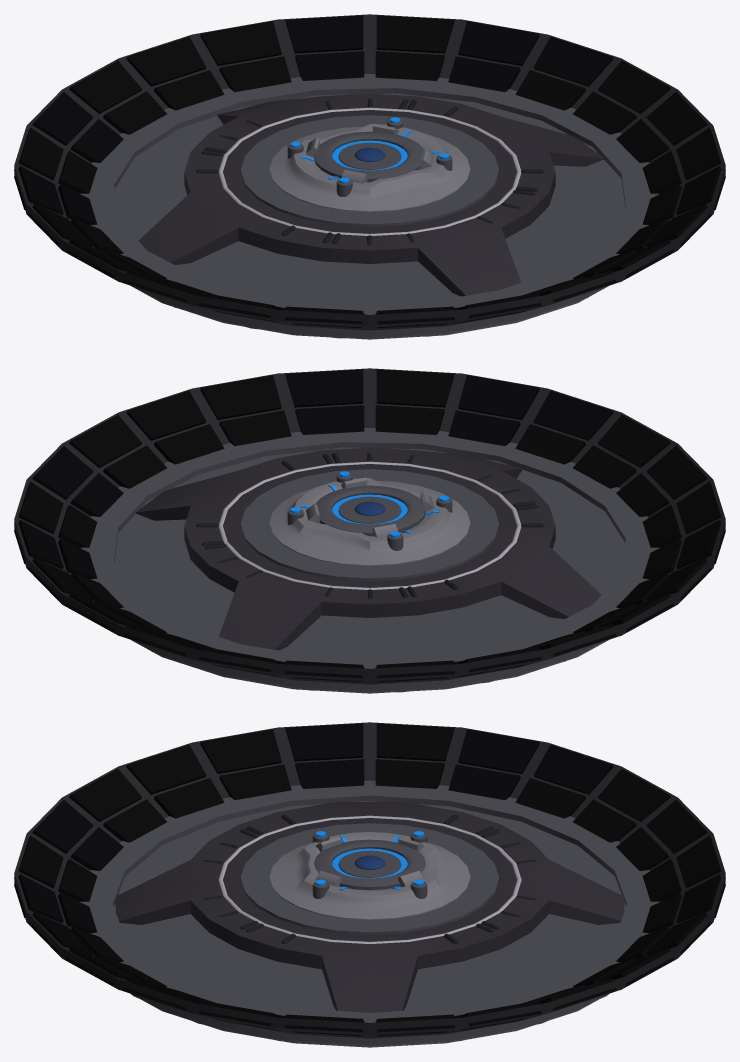
The model's file is dipan.fbx.
3 renders of one model, top to bottom at view 1: azimuth 30°, elevation 25°; view 2: azimuth 150°, elevation 25°; view 3: azimuth 270°, elevation 25°, orthographic.
Parts seen in each view (by area): view 1: polySurface40, polySurface57, polySurface58, polySurface30, pPipe6, pCylinder5, polySurface54, polySurface56, polySurface55, pTorus1, polySurface53, pCube9 (+3 smaller); view 2: polySurface40, polySurface57, polySurface58, polySurface30, pPipe6, pCylinder5, polySurface54, polySurface56, polySurface55, pTorus1, polySurface53, pCube9 (+3 smaller); view 3: polySurface40, polySurface57, polySurface58, polySurface30, pPipe6, pCylinder5, polySurface54, polySurface56, polySurface55, pTorus1, polySurface53, pCube9 (+3 smaller).
Part boxes in pixels (box(x1,y1,x2,y2)): polySurface40: box(14, 15, 725, 327); polySurface57: box(138, 93, 603, 296); polySurface58: box(114, 93, 625, 339); polySurface30: box(58, 51, 681, 314); pPipe6: box(80, 74, 658, 338); pCylinder5: box(14, 14, 725, 330); polySurface54: box(240, 115, 499, 226); polySurface56: box(269, 124, 470, 212); polySurface55: box(314, 131, 424, 182); pTorus1: box(218, 107, 521, 235); polySurface53: box(338, 142, 401, 169); pCube9: box(306, 123, 433, 183); polySurface40: box(14, 369, 725, 681); polySurface57: box(136, 447, 601, 650); polySurface58: box(114, 447, 625, 693); polySurface30: box(58, 405, 681, 668); pPipe6: box(81, 428, 659, 692); pCylinder5: box(14, 368, 725, 684); polySurface54: box(240, 469, 499, 580); polySurface56: box(269, 478, 470, 566); polySurface55: box(315, 485, 425, 536); pTorus1: box(218, 461, 521, 589); polySurface53: box(338, 496, 401, 523); pCube9: box(306, 477, 433, 537); polySurface40: box(14, 723, 725, 1035); polySurface57: box(115, 801, 624, 1012); polySurface58: box(114, 801, 625, 1047); polySurface30: box(58, 759, 681, 1022); pPipe6: box(79, 780, 660, 1041); pCylinder5: box(14, 722, 725, 1038); polySurface54: box(240, 823, 499, 934); polySurface56: box(269, 832, 470, 920); polySurface55: box(314, 839, 425, 890); pTorus1: box(218, 815, 521, 943); polySurface53: box(338, 850, 401, 877); pCube9: box(315, 837, 424, 886).
Bounding box in the file's own units: 1.95 × 0.2022 × 1.95.
Materials: 1 (1 with a texture image).
